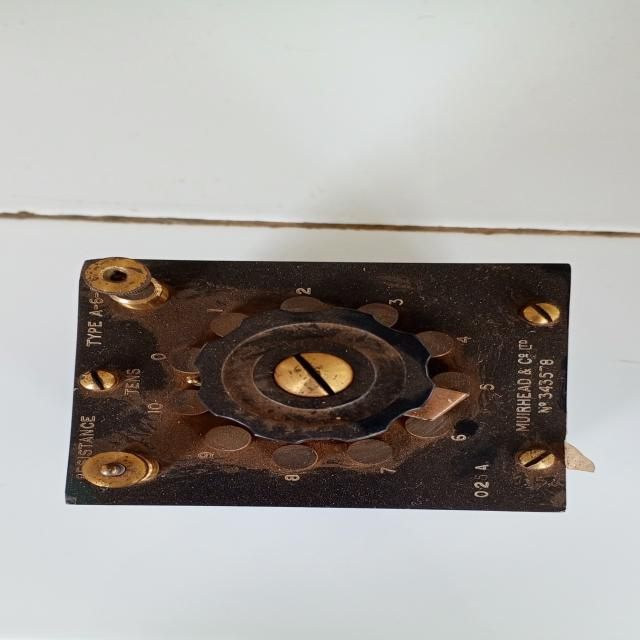Set of Resistances: (37, 250, 607, 533)
